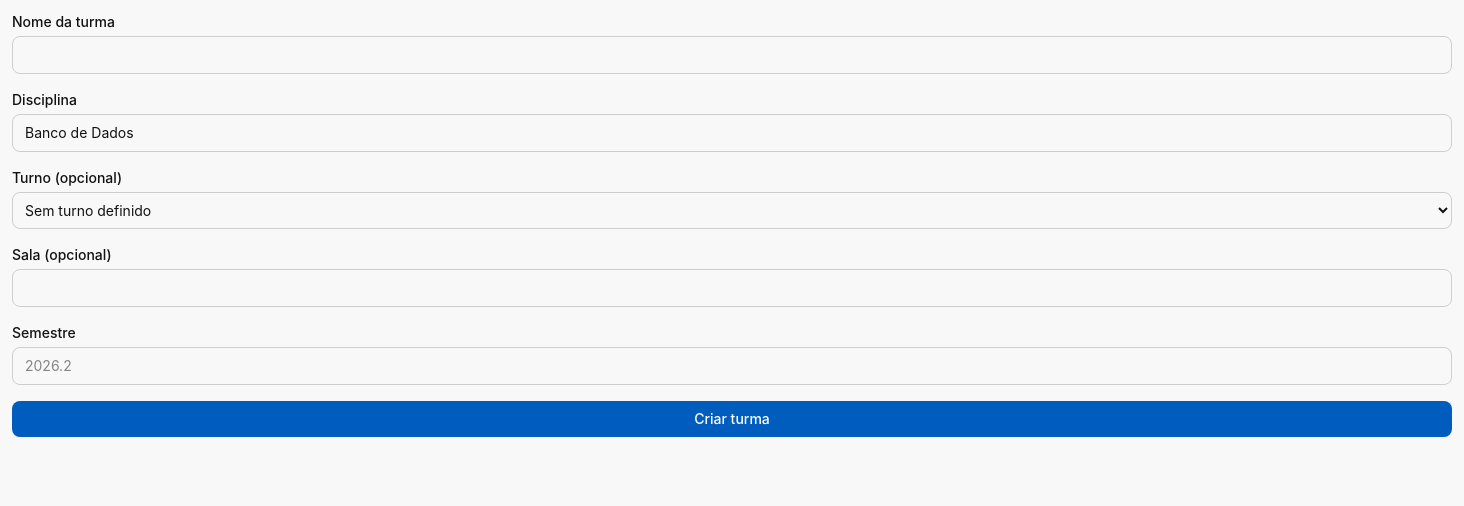
CriarTurmaForm › shows validation errors when submitted with empty fields
Click the button "Criar turma" at [732, 419], box 12,401 -> 1452,437
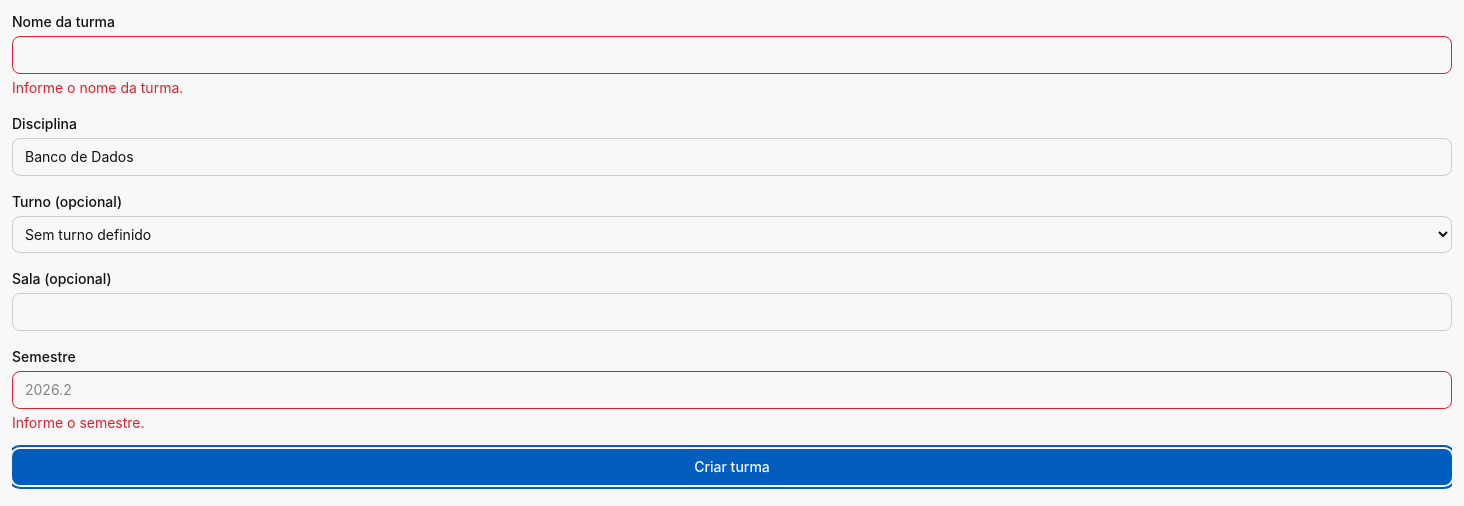
Expected: the text "Informe o nome da turma." is shown, 12,79 -> 183,96
Expected: the text "Informe o semestre." is shown, 12,414 -> 145,431
